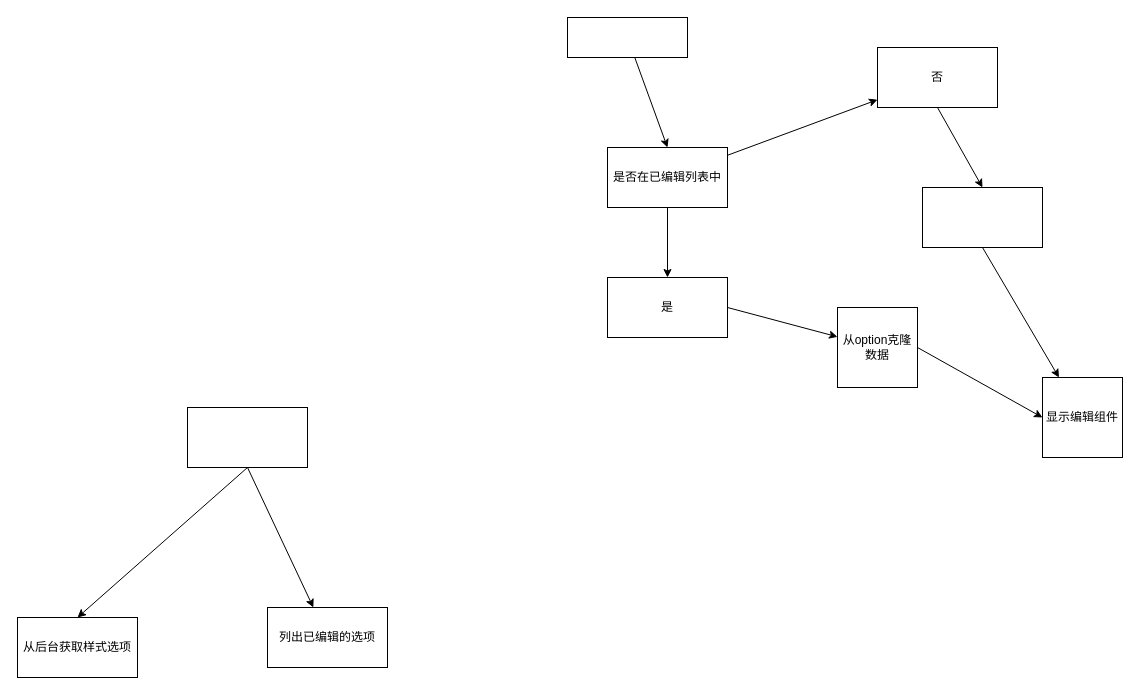
Some shapes in this 1140 by 695 pixel diagram are drawn without their labels. Each missing label, with the centre of its shape:
"从chart实例克隆数据" goes at pixel 982 217.
"选中组件" goes at pixel 247 437.
"选中选项" goes at pixel 627 37.
